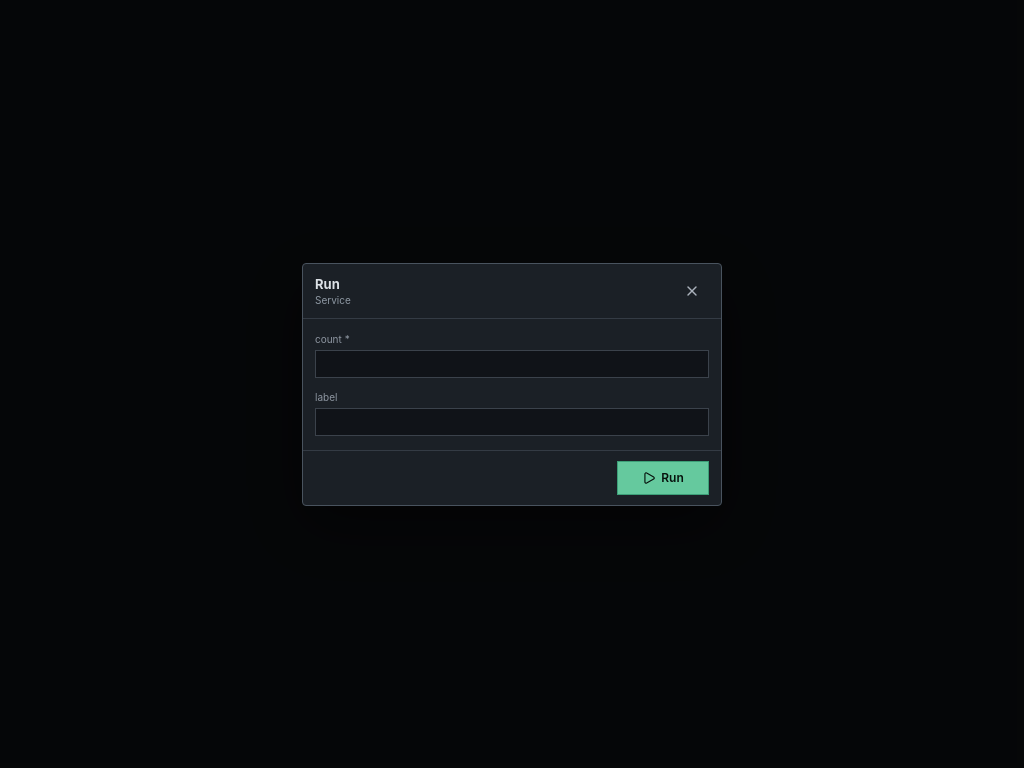
Test: reports runtime rejection and keeps the parameter dialog open
Type "2" into the number field labelled "count *" at (512, 364), box [315,350,709,378]
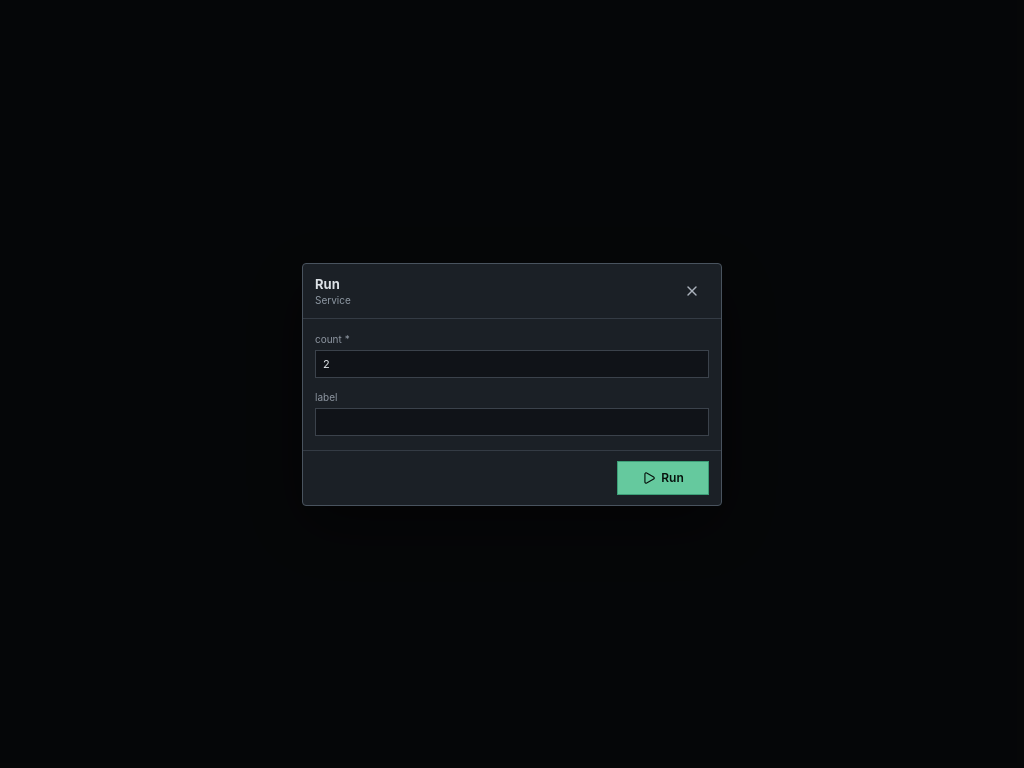
Click the button "Run" at (663, 478), box [617,460,709,494]
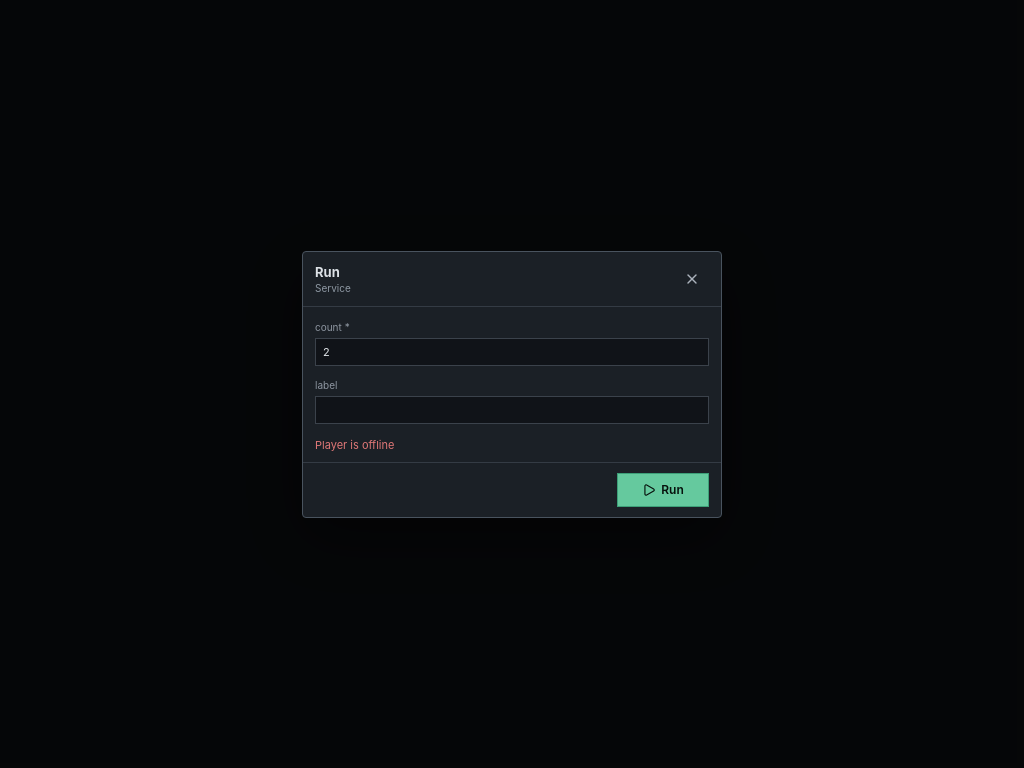
Now the message reads "Player is offline", box [315,438,394,452]
